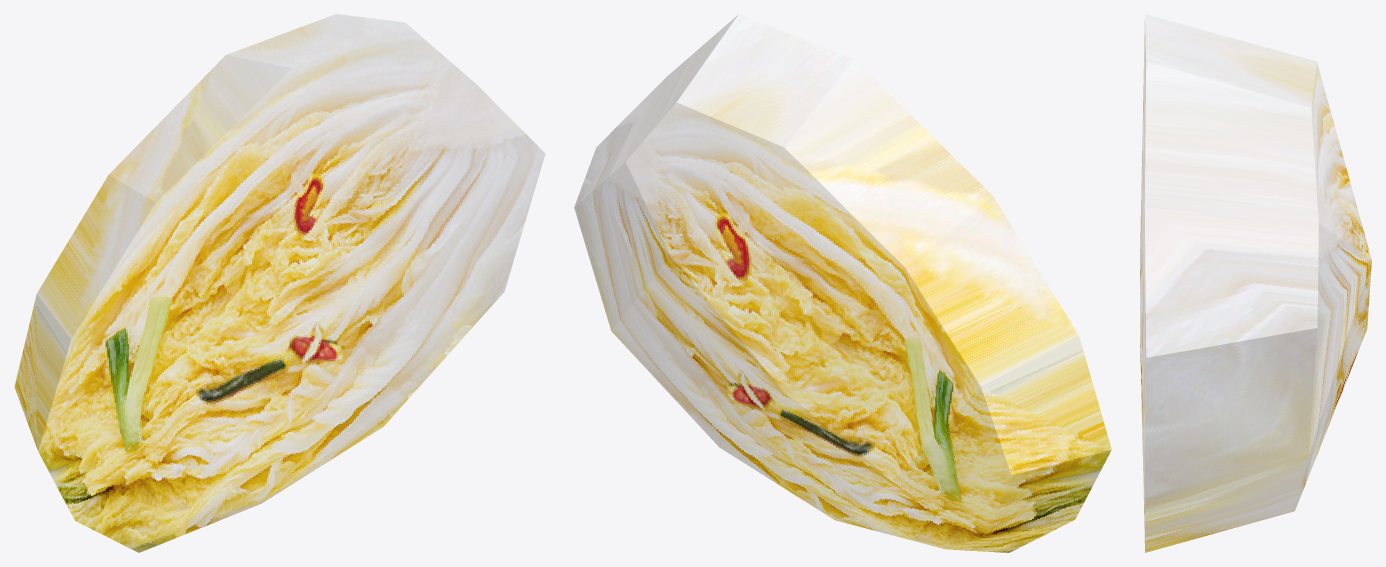
File: baekkimchi.glb
3 views of the same model, side by side, from view 1: azimuth 30°, elevation 25°; view 2: azimuth 150°, elevation 25°; view 3: azimuth 270°, elevation 25° (orthographic). The views are drawn at different scales.
Visible parts, largest first — view 1: whitekimchi; view 2: whitekimchi; view 3: whitekimchi.
Boxes of the visible parts, x1,y1,x2,y2 form: whitekimchi: [14, 14, 545, 552]; whitekimchi: [574, 14, 1111, 552]; whitekimchi: [1140, 14, 1371, 552].
Bounding box in the file's own units: 0.4004 × 0.3511 × 0.1251.
1 material, 1 textured.
